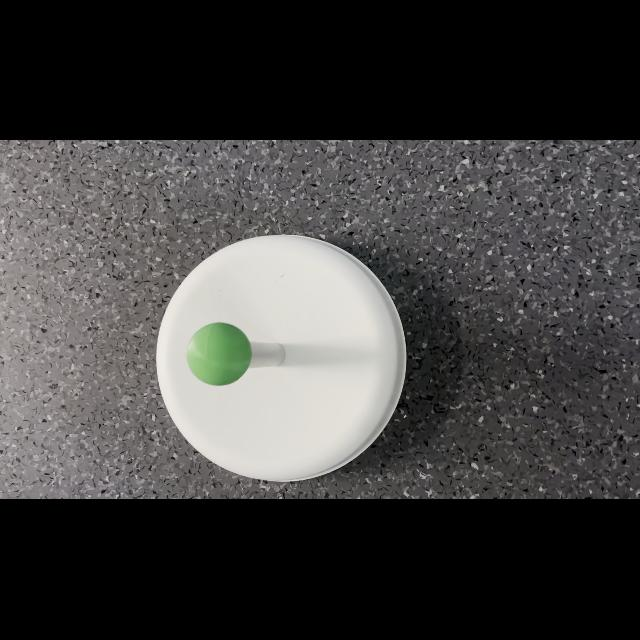objects: (182, 318, 256, 392)
